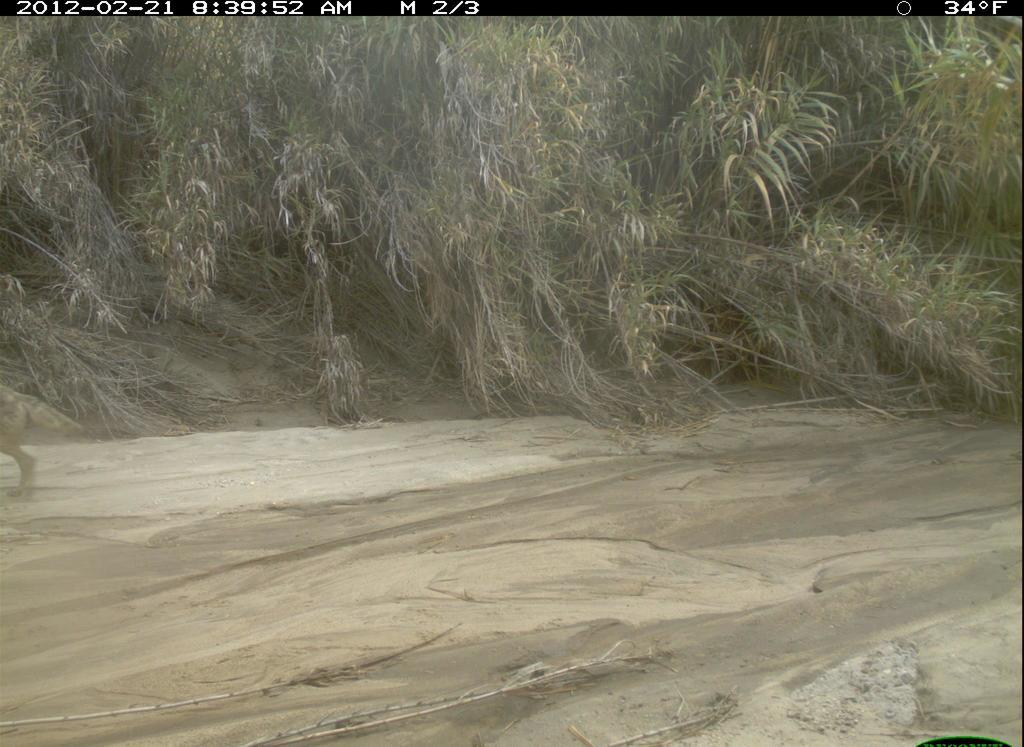coyote: (4, 370, 94, 516)
